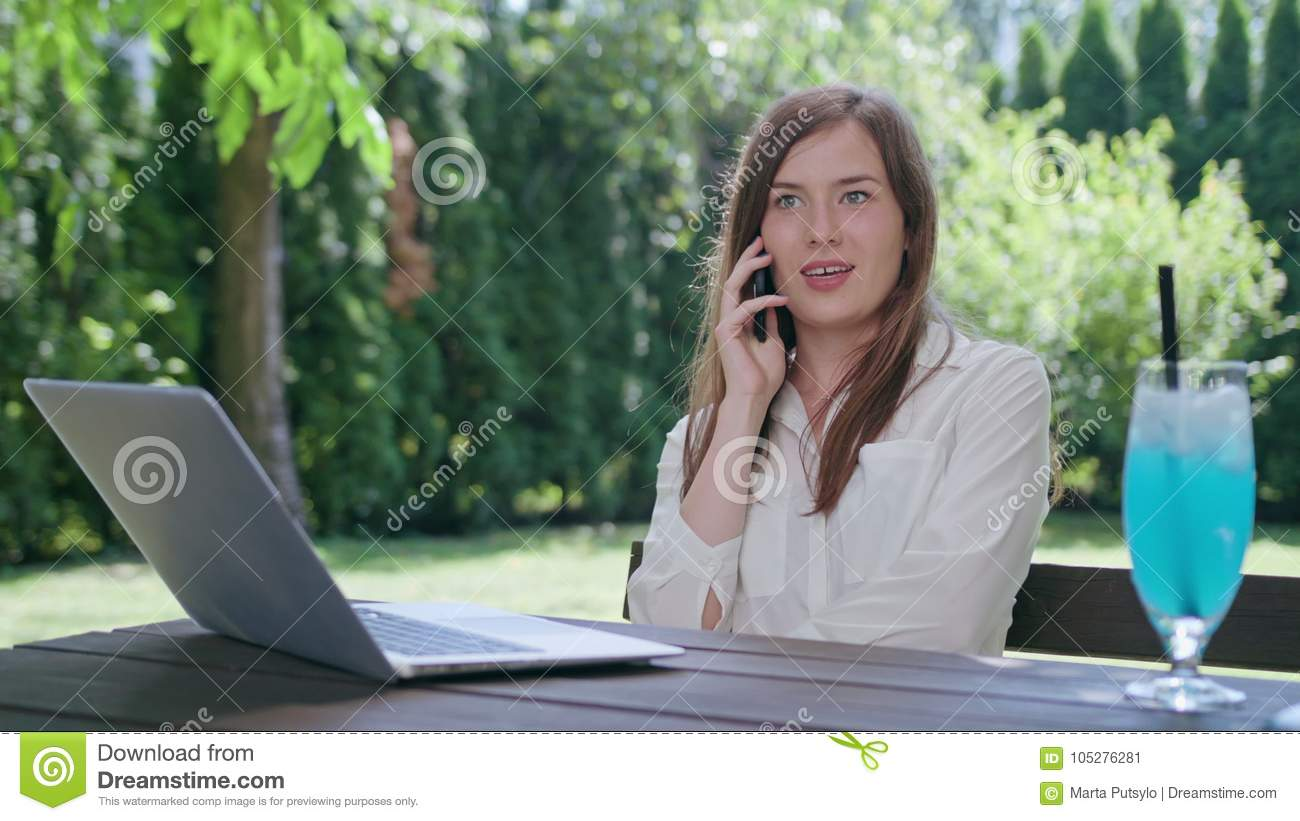phone: (745, 220, 773, 351)
talk: (714, 164, 885, 421)
